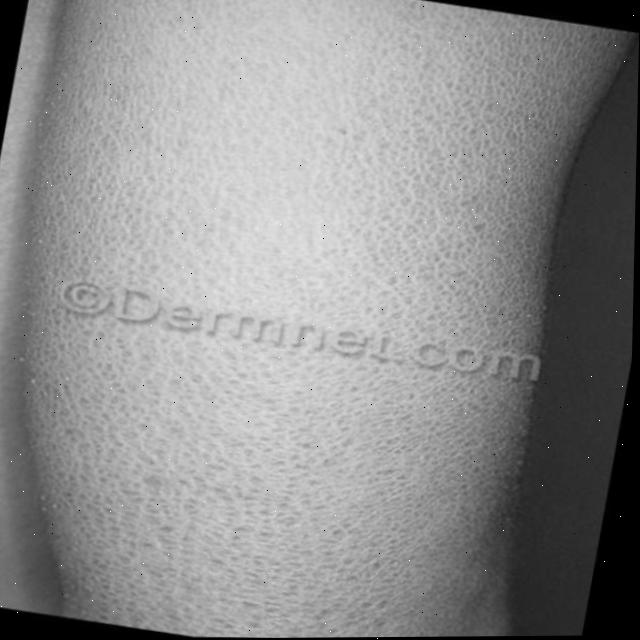Eczema: (84, 47, 551, 591)
